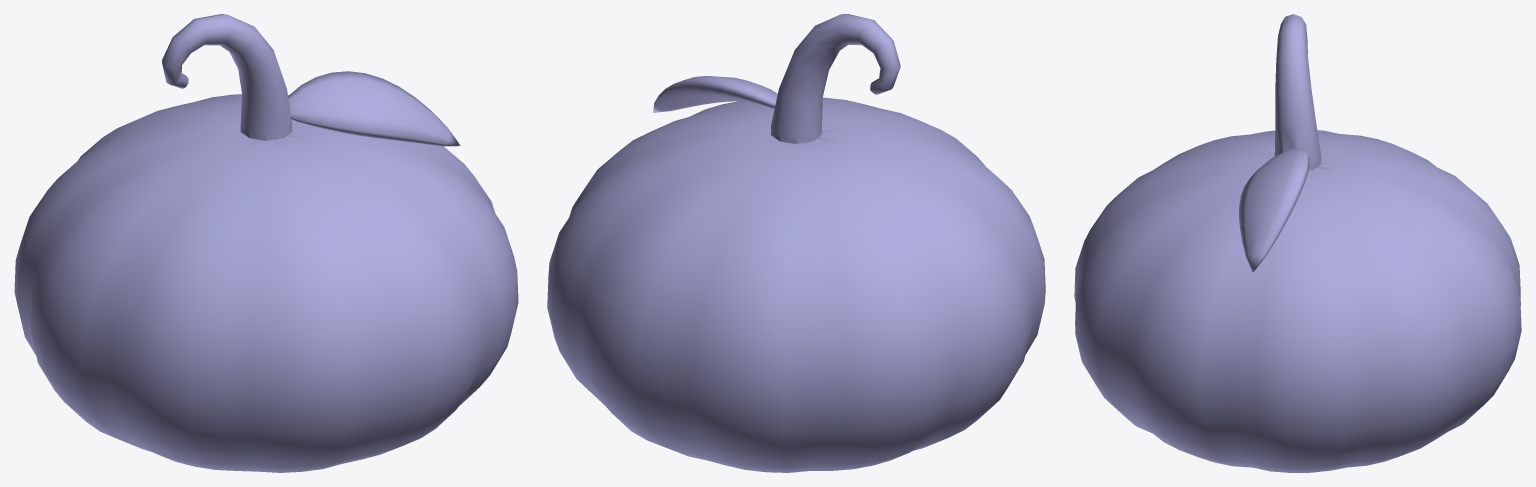
The model's file is Ghostly_Crop.glb.
3 renders of one model, left to right at view 1: azimuth 30°, elevation 25°; view 2: azimuth 150°, elevation 25°; view 3: azimuth 270°, elevation 25°, orthographic. The views are drawn at different scales.
Parts seen in each view (by area): view 1: Ghostly_Crop; view 2: Ghostly_Crop; view 3: Ghostly_Crop.
Boxes of the visible parts, bbox=[...] form: Ghostly_Crop: bbox=[14, 14, 518, 472]; Ghostly_Crop: bbox=[547, 14, 1045, 472]; Ghostly_Crop: bbox=[1074, 14, 1521, 472].
Bounding box in the file's own units: 0.86 × 0.7897 × 0.8439.
